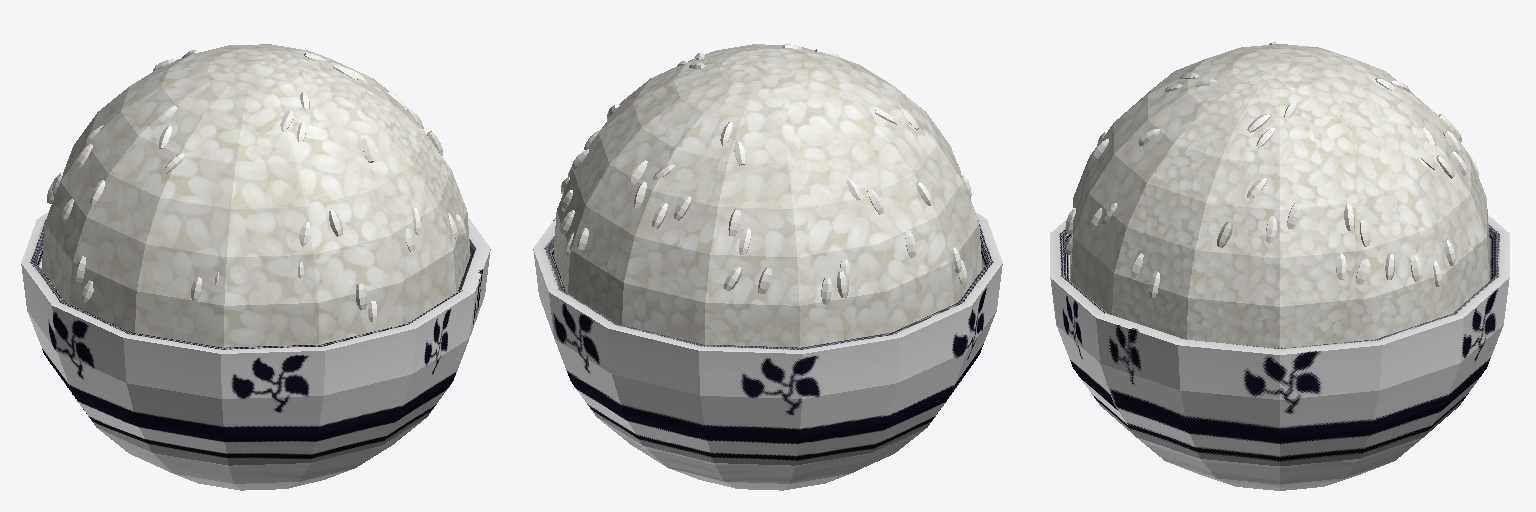
3 views of the same model, side by side, from view 1: azimuth 30°, elevation 25°; view 2: azimuth 150°, elevation 25°; view 3: azimuth 270°, elevation 25° (orthographic).
Visible parts, largest first — view 1: group3; view 2: group3; view 3: group3.
Part boxes in pixels (x1,y1,x2,y2): group3: (21,44,490,490); group3: (533,44,1002,490); group3: (1050,42,1509,490).
Size of the model in its own units: 16.69 by 15.01 by 16.27.
1 materials, 1 textured.